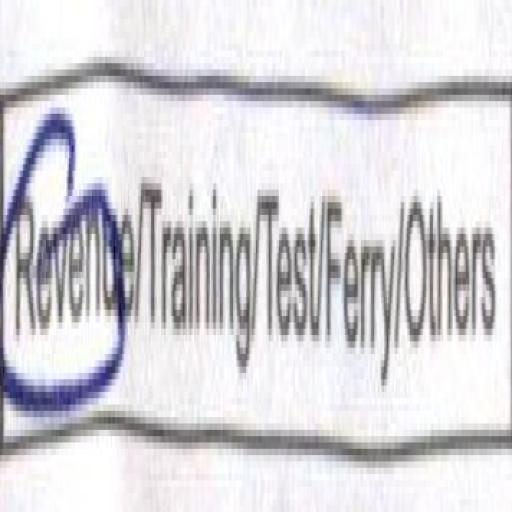check: (1, 40, 136, 512)
